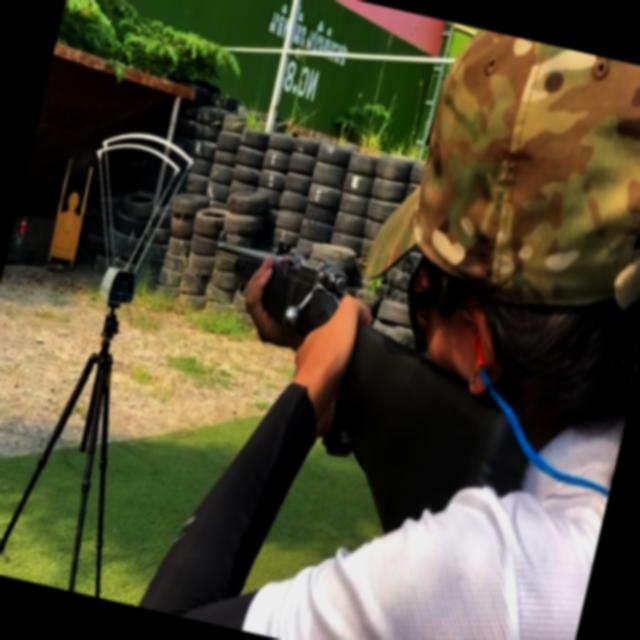rifle: (146, 227, 572, 568)
